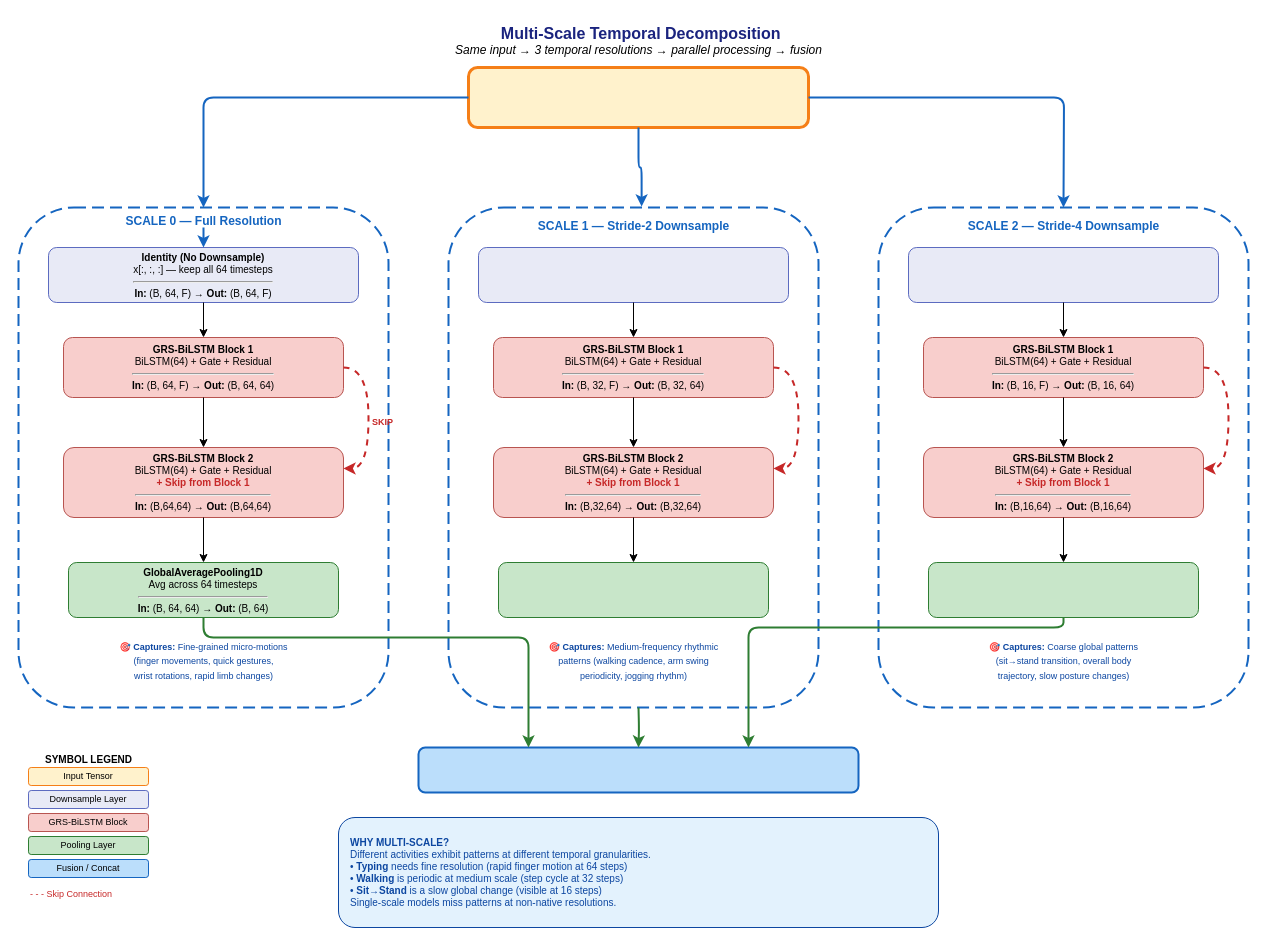
Image size: 1266x945. Some labels were removed from this diagram. The shapes that lost their labels are listed below. From the top down, each one's centre as x and y in pixels, then its label:
At pixel 638 97: "INPUT TENSOR Shape: (Batch, 64, F) 64 timesteps × F joint features".
At pixel 633 274: "Lambda: x[:, ::2, :] Take every 2nd timestep In: (B, 64, F) → Out: (B, 32, F)".
At pixel 1063 274: "Lambda: x[:, ::4, :] Take every 4th timestep In: (B, 64, F) → Out: (B, 16, F)".
At pixel 633 590: "GlobalAveragePooling1D Avg across 32 timesteps In: (B, 32, 64) → Out: (B, 64)".
At pixel 1063 590: "GlobalAveragePooling1D Avg across 16 timesteps In: (B, 16, 64) → Out: (B, 64)".
At pixel 638 769: "Concatenate(axis=−1) 3 × (B, 64) → (B, 192)".
